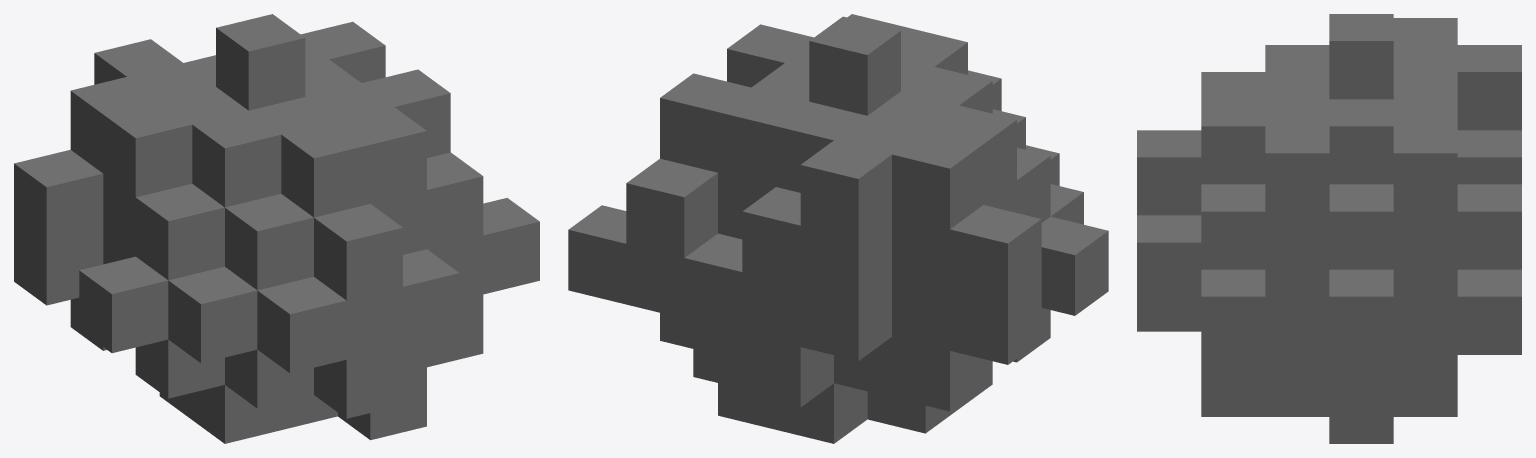
The model's file is Scenery1_Rock.obj.
The picture shows the model from 3 angles, left to right: view 1: azimuth 30°, elevation 25°; view 2: azimuth 150°, elevation 25°; view 3: azimuth 270°, elevation 25°; orthographic projection. The views are drawn at different scales.
Size of the model in its own units: 0.7 by 0.6 by 0.6.
1 material, 1 textured.
